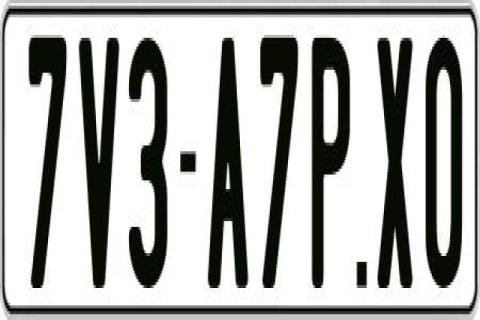0: (260, 32, 303, 288), (128, 35, 167, 291), (27, 35, 65, 291), (424, 35, 460, 303)
A: (208, 38, 252, 291)
P: (309, 32, 351, 291)
V: (78, 29, 124, 285)
X: (374, 29, 416, 297)
